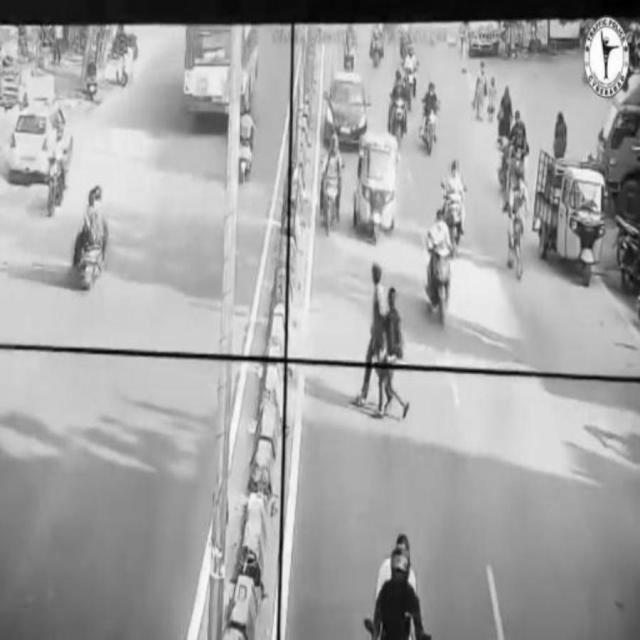person: (358, 258, 384, 418), (383, 286, 410, 420)
vehicle: (536, 154, 604, 284), (11, 101, 75, 185), (359, 131, 397, 247), (71, 182, 111, 292), (325, 72, 369, 150), (506, 162, 534, 283), (425, 207, 447, 325), (322, 132, 346, 234), (442, 155, 462, 259), (419, 84, 443, 155), (389, 65, 409, 147), (240, 98, 258, 186)
